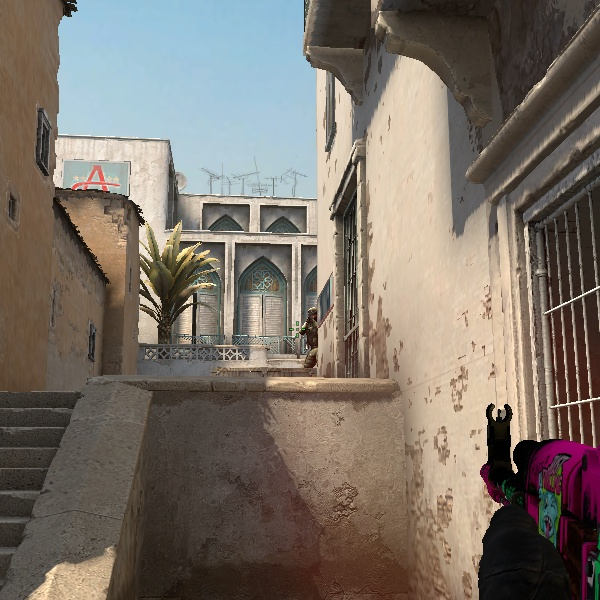ct_body: (299, 306, 327, 372)
ct_head: (307, 306, 317, 322)
